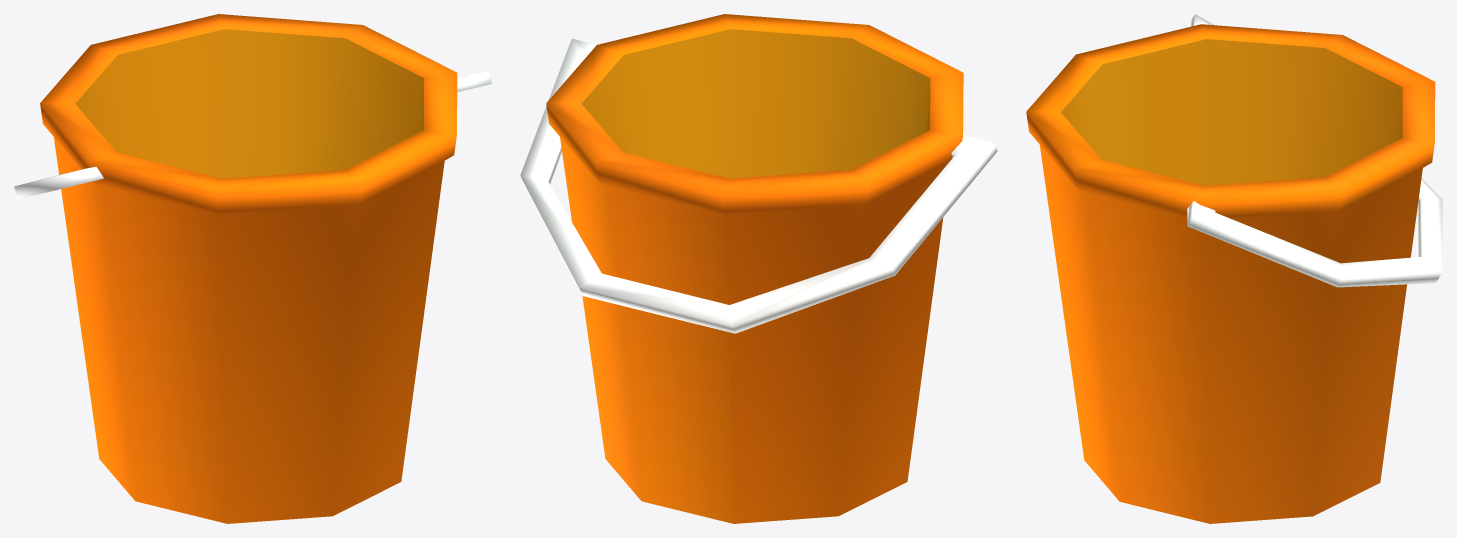
The model's file is BeachToyBucketOrange.glb.
3 renders of one model, left to right at view 1: azimuth 30°, elevation 25°; view 2: azimuth 150°, elevation 25°; view 3: azimuth 270°, elevation 25°, orthographic. The views are drawn at different scales.
Parts seen in each view (by area): view 1: BeachToyBucketOrange; view 2: BeachToyBucketOrange; view 3: BeachToyBucketOrange.
Boxes of the visible parts, <box> form: BeachToyBucketOrange: <box>14,14,491,523</box>; BeachToyBucketOrange: <box>520,14,997,523</box>; BeachToyBucketOrange: <box>1026,14,1442,523</box>.
Size of the model in its own units: 0.4322 by 0.347 by 0.3758.
1 material, 1 textured.
